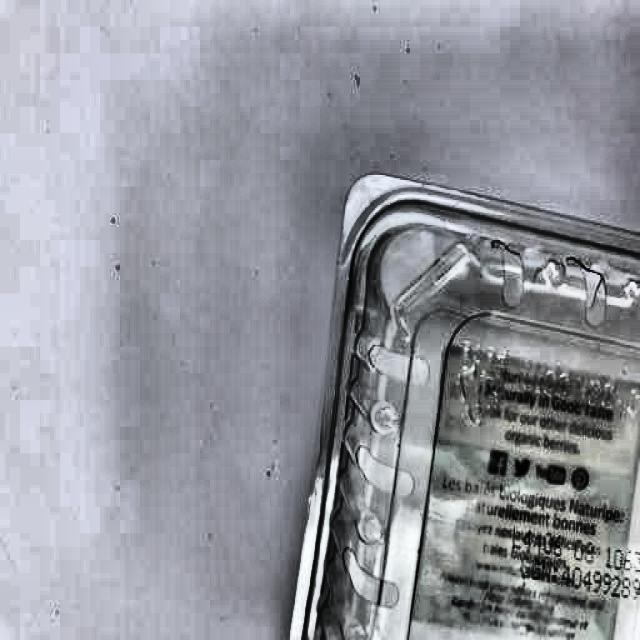plastic: (287, 171, 638, 640)
